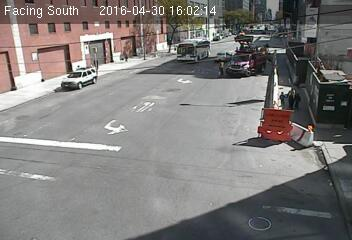neg: (62, 72, 85, 102), (179, 46, 196, 68), (272, 45, 287, 65), (137, 98, 150, 117)
pos: (282, 81, 302, 109), (275, 85, 292, 107), (213, 58, 227, 78), (292, 91, 304, 107), (286, 93, 297, 107)
